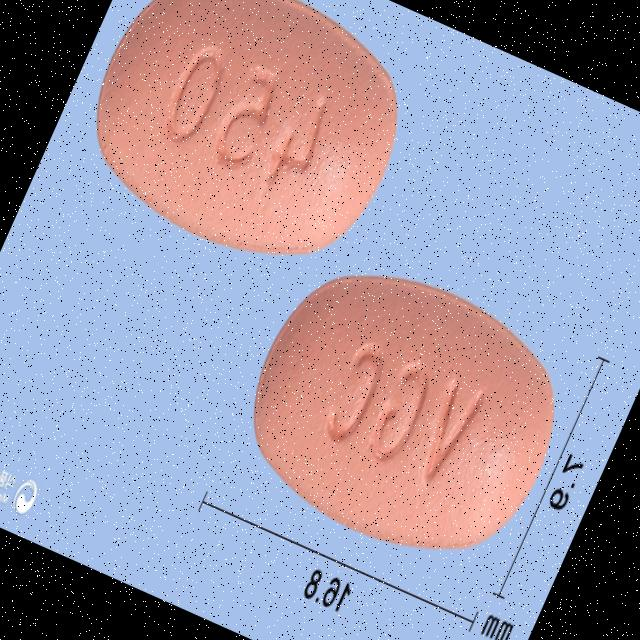Valcyte Tab: (216, 232, 594, 592), (57, 0, 435, 296)
